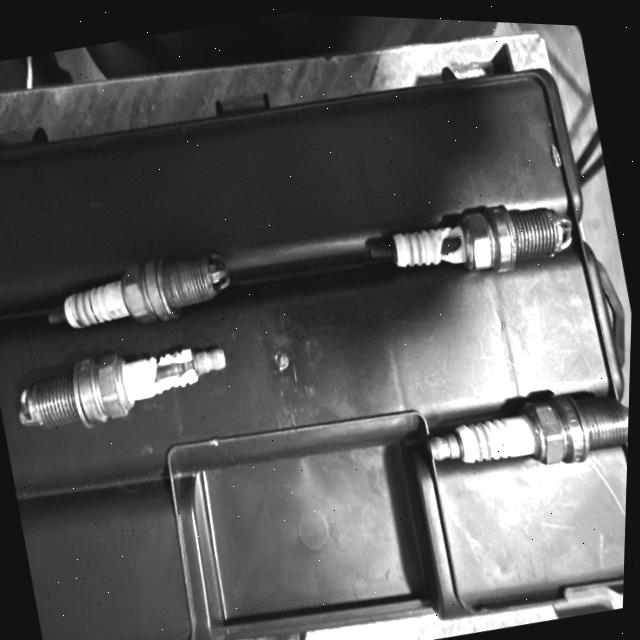damaged_spark-plug: (0, 308, 248, 475), (362, 182, 583, 303)
spark-plug: (415, 371, 632, 491), (30, 235, 243, 341)
